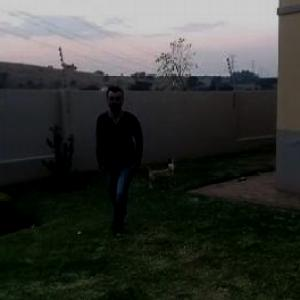follow: (92, 72, 148, 242)
